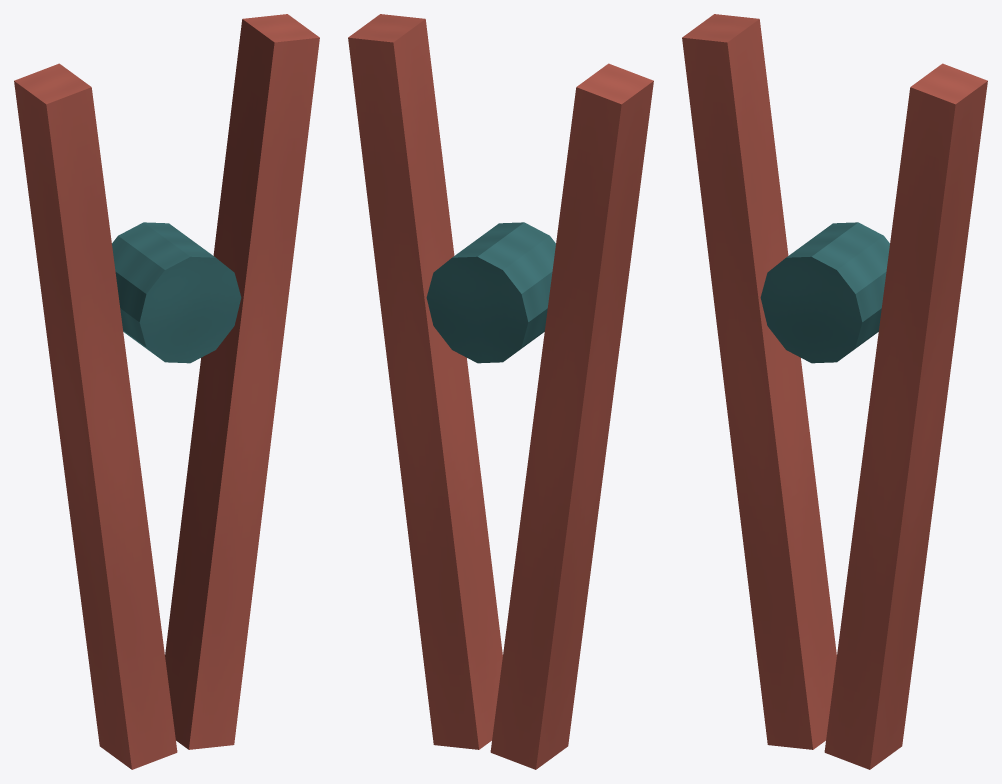
The model's file is atlas100-s034-a05.glb.
3 renders of one model, left to right at view 1: azimuth 30°, elevation 25°; view 2: azimuth 150°, elevation 25°; view 3: azimuth 330°, elevation 25°, orthographic.
Parts seen in each view (by area): view 1: atlas100-s034-a05:part-001, atlas100-s034-a05:part-000, atlas100-s034-a05:part-002; view 2: atlas100-s034-a05:part-001, atlas100-s034-a05:part-000, atlas100-s034-a05:part-002; view 3: atlas100-s034-a05:part-000, atlas100-s034-a05:part-001, atlas100-s034-a05:part-002.
Part boxes in pixels (x1=…): atlas100-s034-a05:part-001: x1=165, y1=14, x2=319, y2=749; atlas100-s034-a05:part-000: x1=14, y1=63, x2=177, y2=769; atlas100-s034-a05:part-002: x1=112, y1=222, x2=241, y2=363; atlas100-s034-a05:part-001: x1=348, y1=14, x2=502, y2=749; atlas100-s034-a05:part-000: x1=490, y1=63, x2=653, y2=769; atlas100-s034-a05:part-002: x1=426, y1=222, x2=555, y2=363; atlas100-s034-a05:part-000: x1=682, y1=14, x2=836, y2=749; atlas100-s034-a05:part-001: x1=824, y1=63, x2=987, y2=769; atlas100-s034-a05:part-002: x1=760, y1=222, x2=889, y2=363.
Bounding box in the file's own units: 0.2936 × 0.7102 × 0.0874.
Materials: 2 (2 with a texture image).
